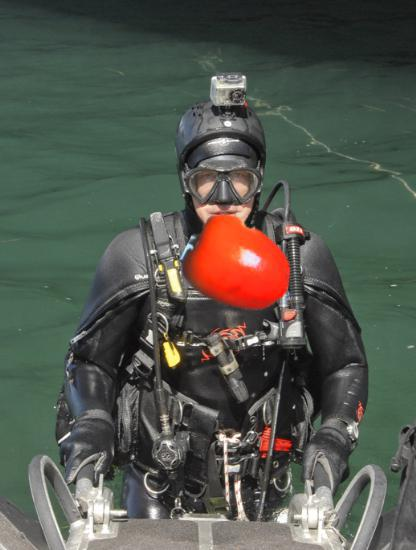Kaki: (183, 210, 295, 322)
